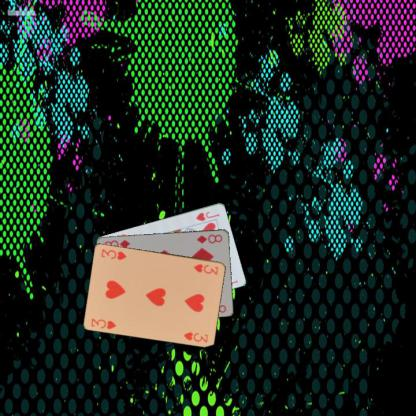3h: (88, 315, 118, 330), (191, 261, 220, 276)
8d: (194, 232, 224, 244)
Jh: (194, 208, 221, 222)
